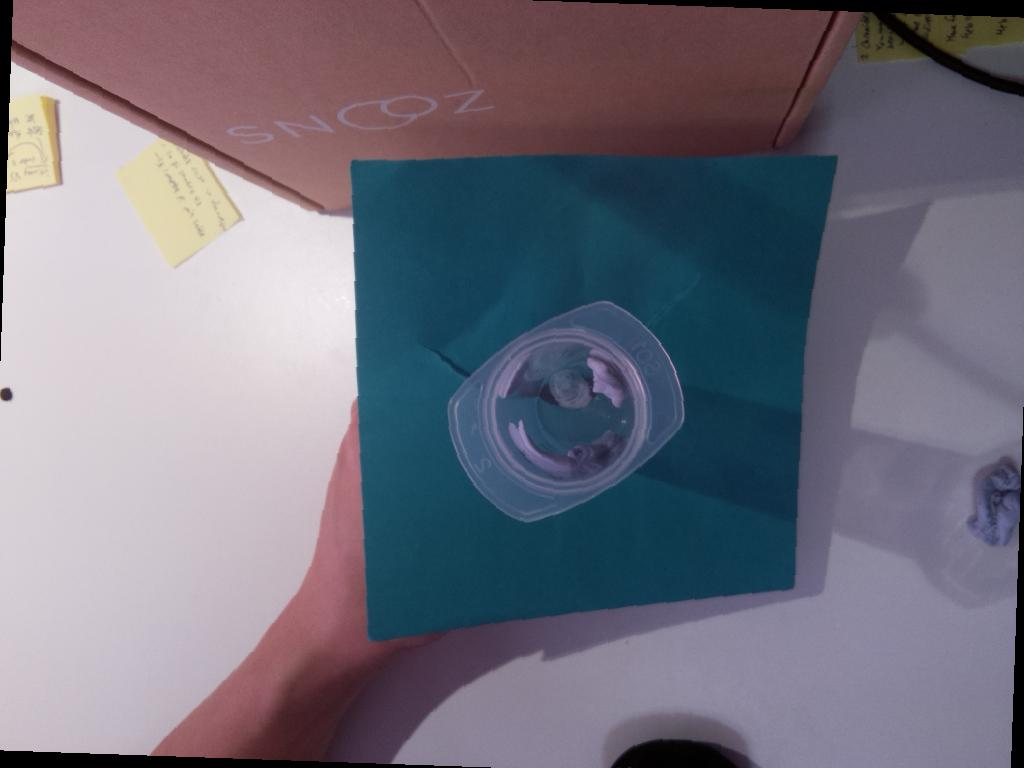dirty: (447, 300, 685, 523)
